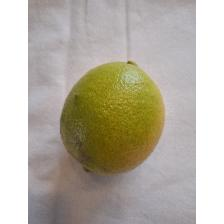Zitrone: (59, 59, 167, 177)
